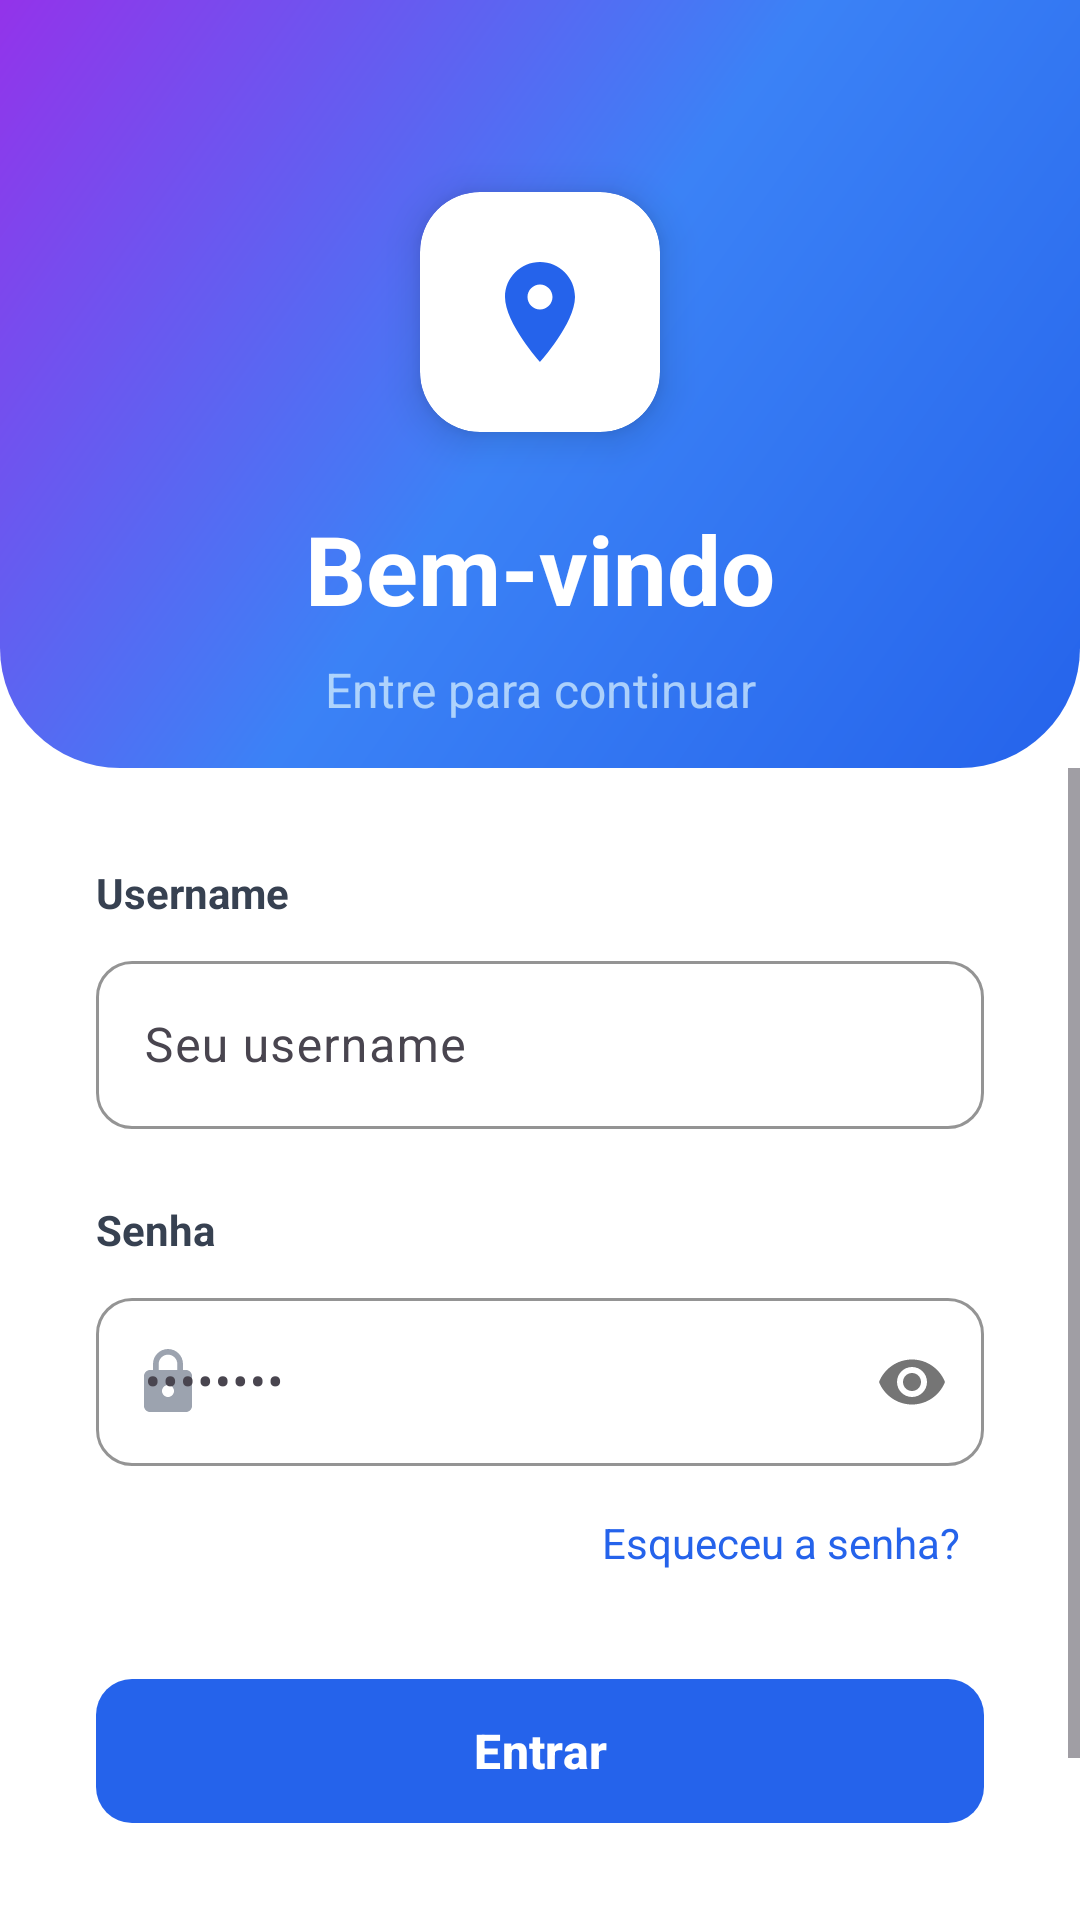

Named icons in this screenshot (1080px x 1920px) and their centers, (x,y):
location: (540,312)
